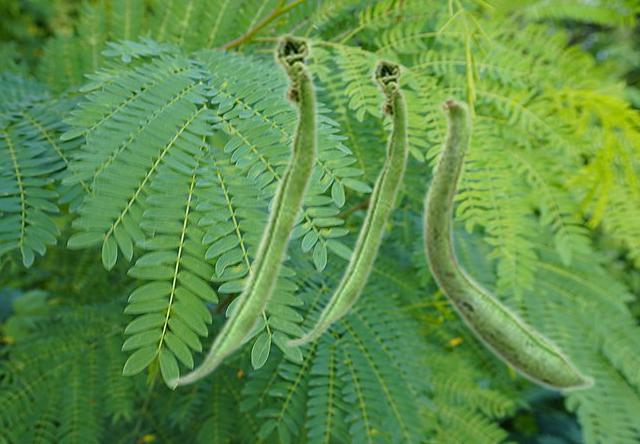french_bean: (166, 30, 318, 387), (421, 93, 595, 392), (284, 56, 408, 347)
